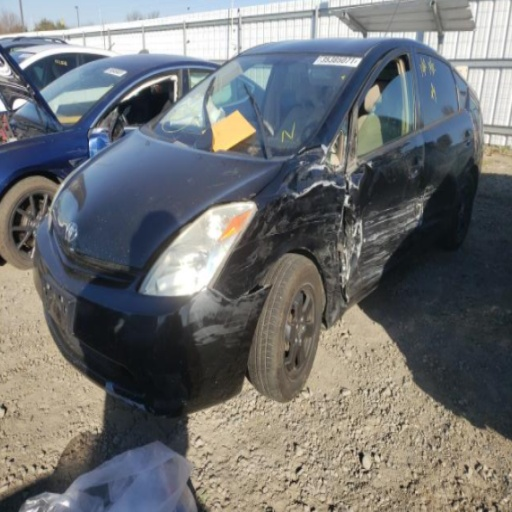scratch: (176, 288, 270, 351), (368, 185, 436, 216), (365, 211, 423, 241), (366, 203, 424, 230), (365, 222, 419, 251), (360, 235, 408, 260), (230, 243, 271, 271), (290, 180, 349, 198), (257, 203, 283, 239), (290, 212, 340, 229), (350, 220, 365, 263), (352, 272, 384, 292), (357, 252, 390, 270), (250, 203, 266, 240), (353, 264, 384, 280), (322, 260, 340, 285), (352, 271, 384, 285), (313, 241, 337, 259), (321, 218, 341, 238), (269, 217, 289, 234), (305, 218, 329, 227), (300, 246, 316, 259), (383, 254, 393, 260)
